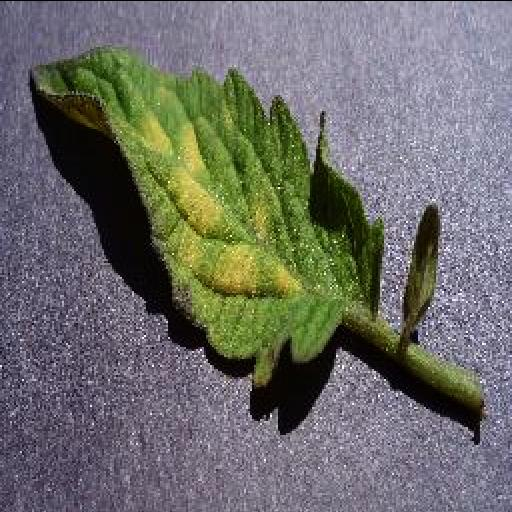disease_tomato: (28, 44, 386, 386)
